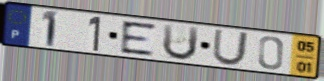0: (257, 35, 286, 70)
1: (40, 10, 60, 49), (87, 16, 102, 53)
E: (119, 20, 158, 57)
U: (160, 22, 201, 62), (210, 29, 251, 68)
